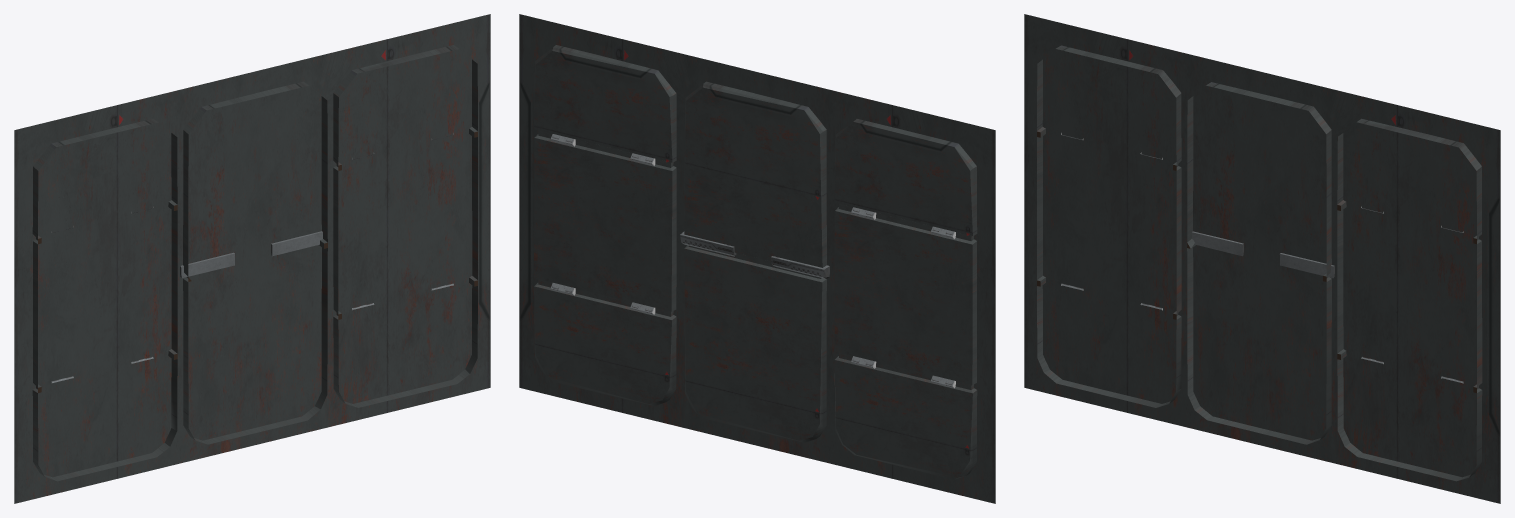
The model's file is ARC0910158.fbx.
3 renders of one model, left to right at view 1: azimuth 30°, elevation 25°; view 2: azimuth 150°, elevation 25°; view 3: azimuth 330°, elevation 25°, orthographic.
Visible parts, largest first — view 1: smARC0910158; view 2: smARC0910158; view 3: smARC0910158.
Boxes of the visible parts, box(x1,y1,x2,y2) form: smARC0910158: box(14, 14, 490, 503); smARC0910158: box(519, 14, 995, 503); smARC0910158: box(1024, 14, 1500, 503).
Size of the model in its own units: 400 by 300 by 16.63.
Materials: 1 (1 with a texture image).
